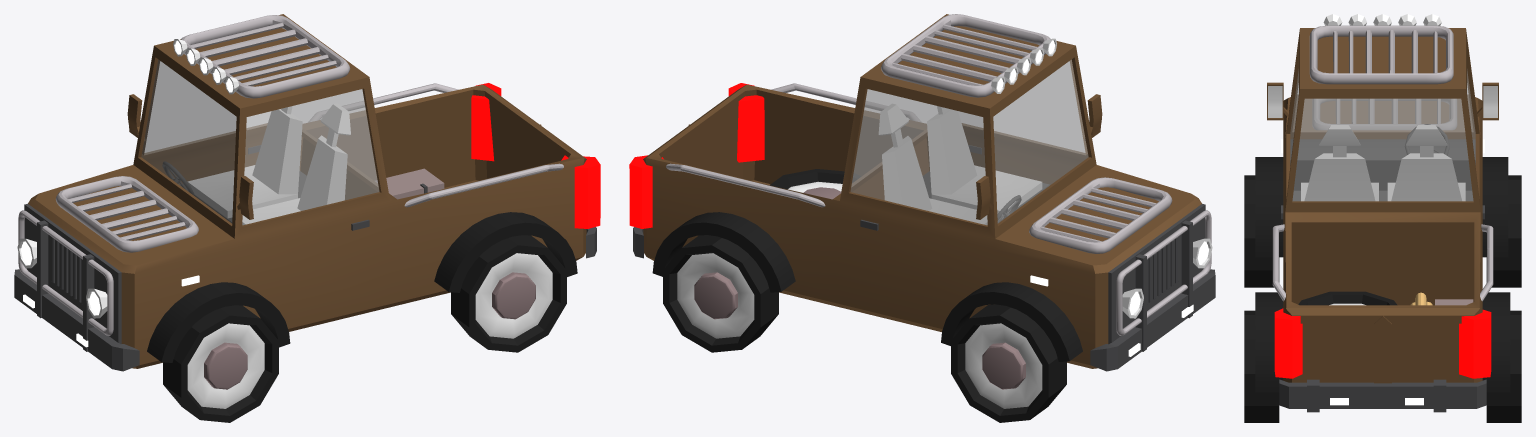
Rendered from pickup.glb.
The picture shows the model from 3 angles, left to right: view 1: azimuth 30°, elevation 25°; view 2: azimuth 150°, elevation 25°; view 3: azimuth 270°, elevation 25°; orthographic projection. The views are drawn at different scales.
Visible parts, largest first — view 1: Car body, Glass, R L.001, F L, Seat, red light, light, Seat.001; view 2: Car body, Glass, F R.001, R R, Seat, red light, light, Seat.001; view 3: Car body, Glass, Seat, Seat.001, red light, R R, R L.001, F R.001, F L, white light.
Boxes of the visible parts, bbox=[...] form: Car body: bbox=[14, 14, 596, 371]; Glass: bbox=[141, 60, 379, 224]; R L.001: bbox=[451, 235, 566, 352]; F L: bbox=[163, 305, 278, 422]; Seat: bbox=[187, 103, 350, 224]; red light: bbox=[471, 83, 600, 228]; light: bbox=[21, 40, 233, 314]; Seat.001: bbox=[160, 161, 306, 362]; Car body: bbox=[633, 14, 1215, 371]; Glass: bbox=[850, 60, 1088, 224]; F R.001: bbox=[951, 304, 1066, 422]; R R: bbox=[663, 235, 778, 352]; Seat: bbox=[878, 103, 1042, 224]; red light: bbox=[629, 83, 764, 228]; light: bbox=[997, 40, 1208, 314]; Seat.001: bbox=[922, 171, 1069, 362]; Car body: bbox=[1255, 14, 1510, 412]; Glass: bbox=[1290, 71, 1475, 200]; Seat: bbox=[1301, 125, 1465, 201]; Seat.001: bbox=[1290, 124, 1475, 201]; red light: bbox=[1274, 308, 1491, 378]; R R: bbox=[1486, 310, 1521, 422]; R L.001: bbox=[1244, 310, 1279, 422]; F R.001: bbox=[1486, 175, 1521, 287]; F L: bbox=[1244, 175, 1279, 287]; white light: bbox=[1281, 139, 1484, 405].
Bounding box in the file's own units: 2.92 × 1.71 × 1.48.
7 materials, 2 textured.
